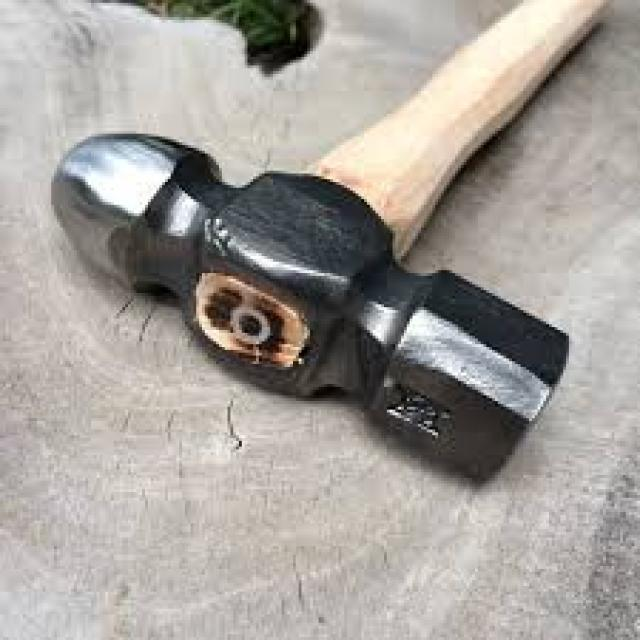hammer: (43, 0, 612, 489)
